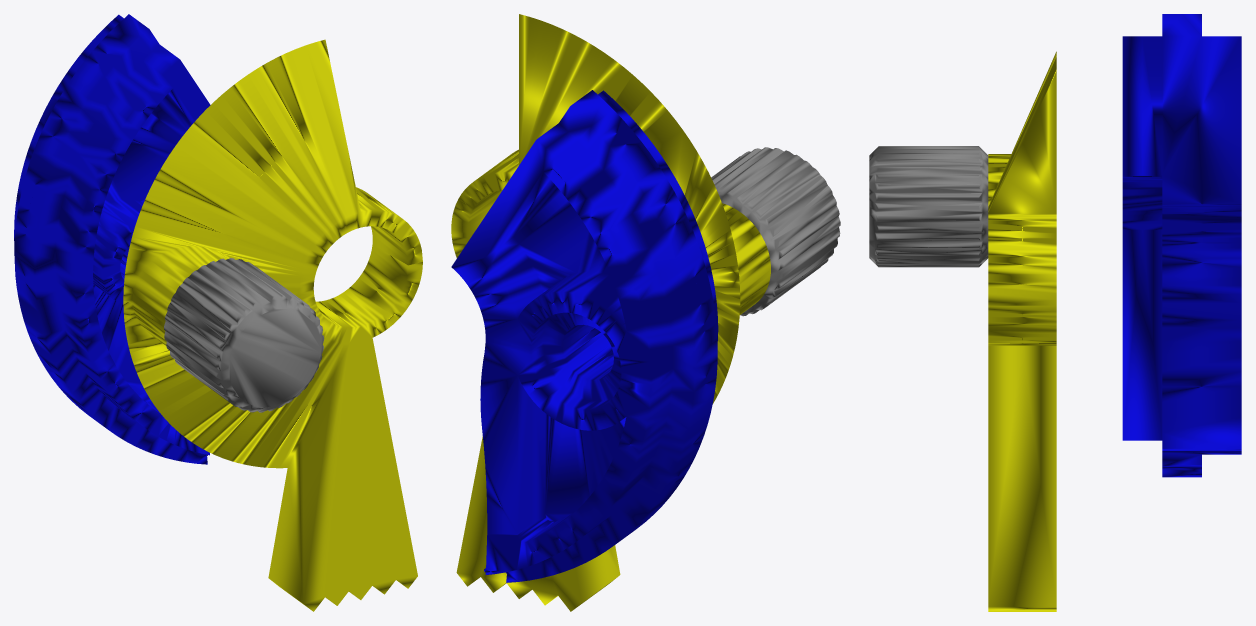
File: bennettinsert_left_BLUE_deco.obj
The picture shows the model from 3 angles, left to right: view 1: azimuth 30°, elevation 25°; view 2: azimuth 150°, elevation 25°; view 3: azimuth 270°, elevation 25°; orthographic projection. The views are drawn at different scales.
Size of the model in its own units: 25.25 by 43.32 by 28.2.
